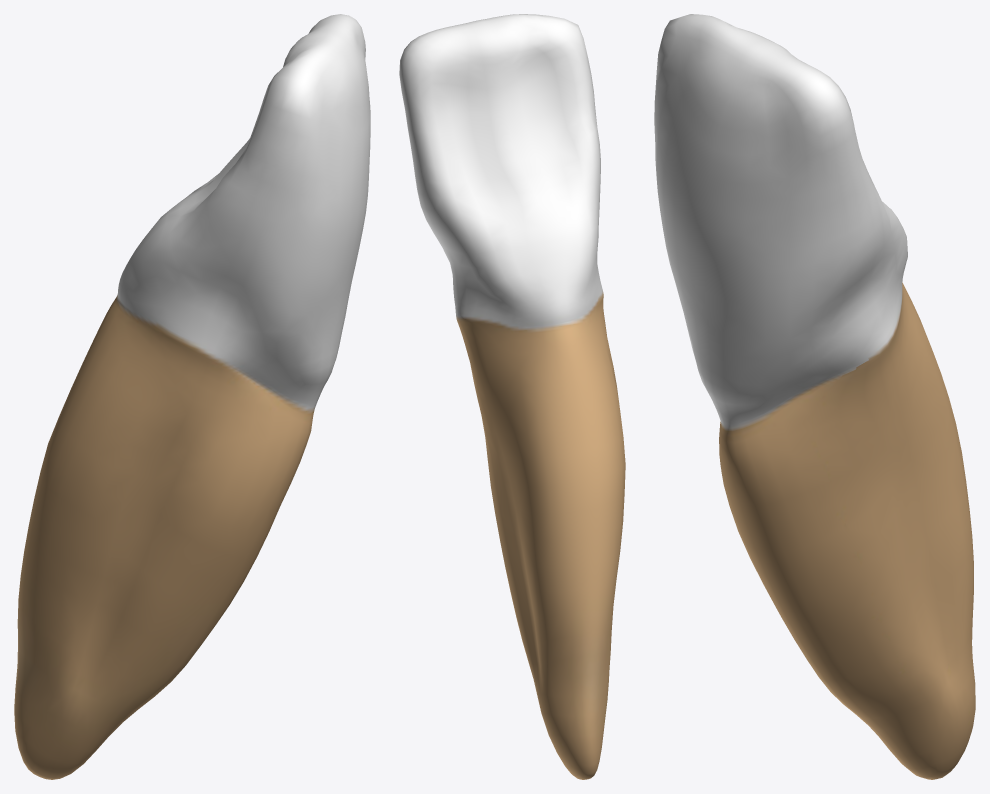
3 views of the same model, side by side, from view 1: azimuth 30°, elevation 25°; view 2: azimuth 150°, elevation 25°; view 3: azimuth 270°, elevation 25° (orthographic). The views are drawn at different scales.
Visible parts, largest first — view 1: polySurface22 group4 dfhjghkljk; view 2: polySurface22 group4 dfhjghkljk; view 3: polySurface22 group4 dfhjghkljk.
Boxes of the visible parts, x1=… form: polySurface22 group4 dfhjghkljk: x1=14, y1=14, x2=370, y2=779; polySurface22 group4 dfhjghkljk: x1=399, y1=14, x2=625, y2=779; polySurface22 group4 dfhjghkljk: x1=654, y1=14, x2=975, y2=779.
Bounding box in the file's own units: 2.08 × 5.32 × 1.84.
1 material, 1 textured.
